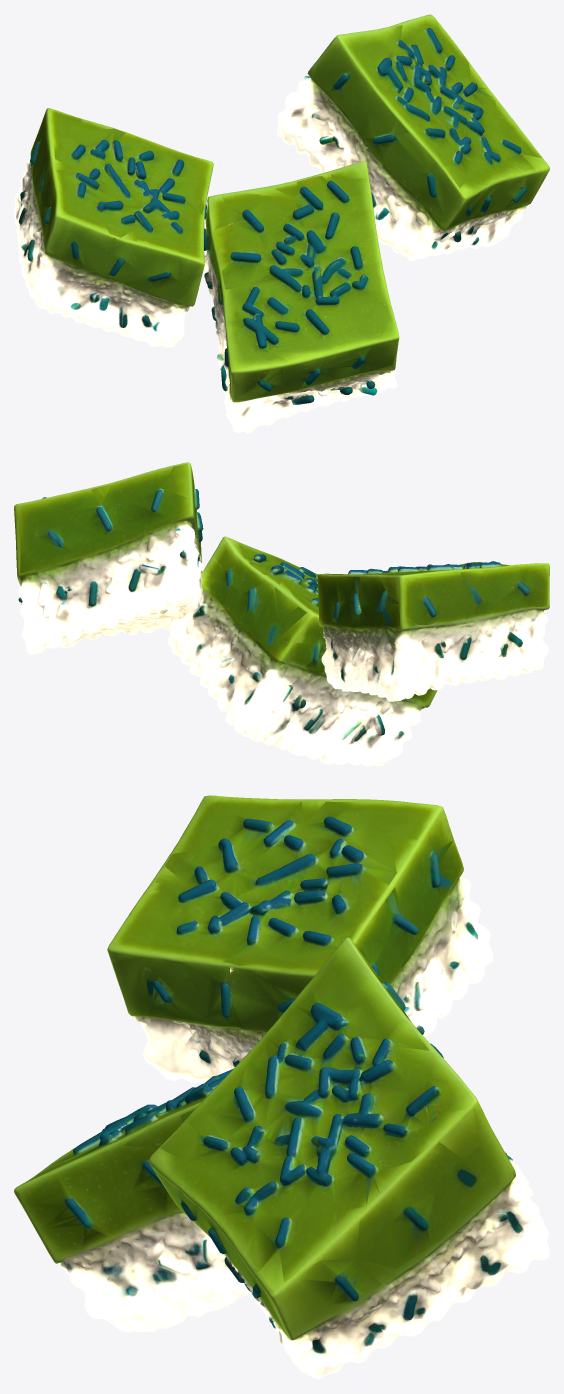
Rendered from Kuih_Seri_Muka.glb.
3 views of the same model, one above another, from view 1: azimuth 30°, elevation 25°; view 2: azimuth 150°, elevation 25°; view 3: azimuth 270°, elevation 25° (orthographic). The views are drawn at different scales.
Parts seen in each view (by area): view 1: Mesh_0; view 2: Mesh_0; view 3: Mesh_0.
Boxes of the visible parts, x1=… form: Mesh_0: x1=14, y1=14, x2=549, y2=433; Mesh_0: x1=14, y1=462, x2=549, y2=766; Mesh_0: x1=14, y1=795, x2=549, y2=1379.
Size of the model in its own units: 1.9 by 1.11 by 1.16.
1 material, 1 textured.
